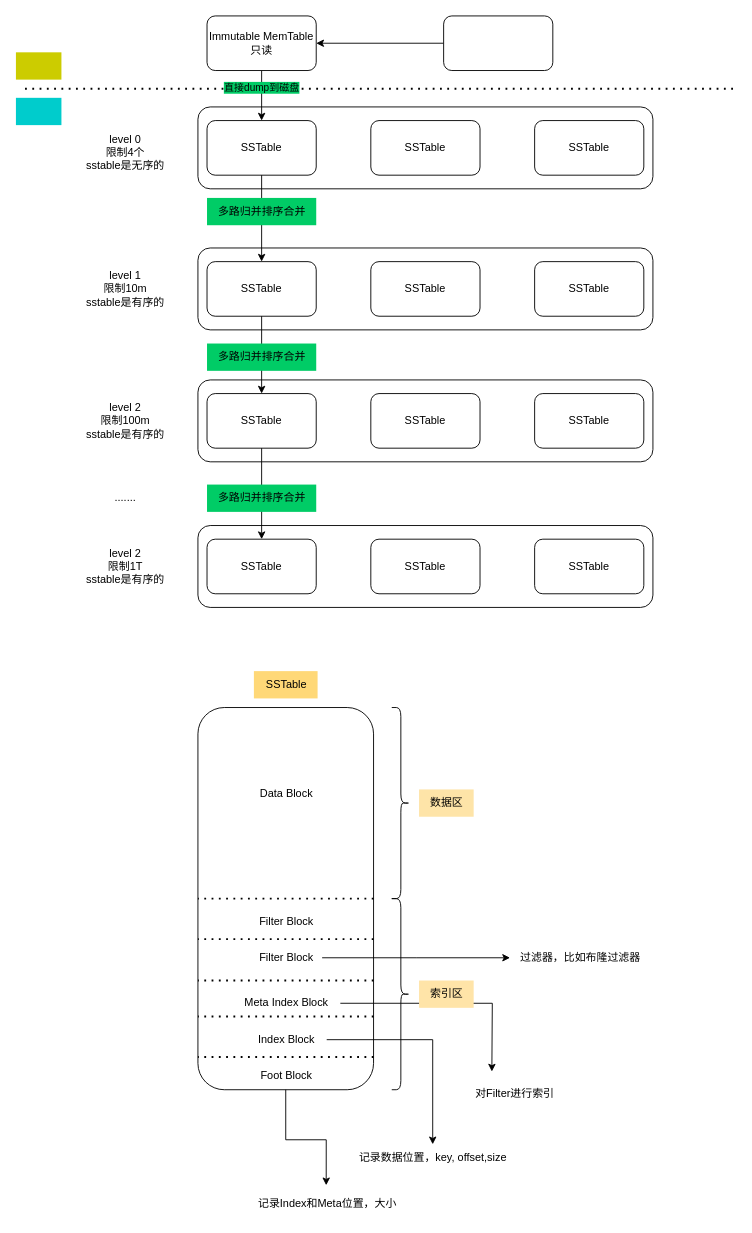
Some shapes in this 752 by 1233 pixel diagram are drawn without their labels. The shapes that lost their labels are listed below. From the top down, each one's centre as x and y in pixels, then its label:
pixel 498 43: MemTable 读写
pixel 38 65: 内存
pixel 38 111: 磁盘
